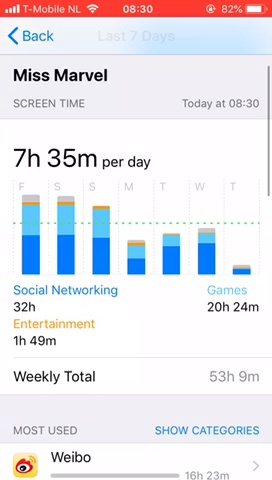use_over: (11, 283, 264, 385)
